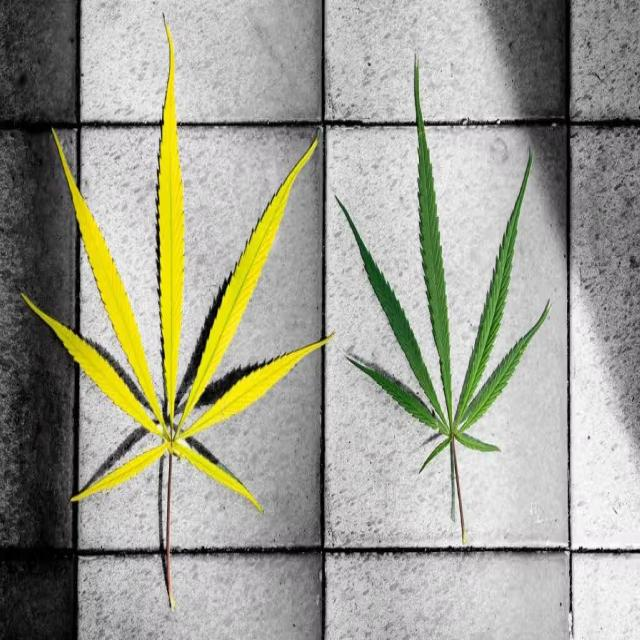cannabis: (20, 14, 328, 612), (333, 60, 551, 543)
